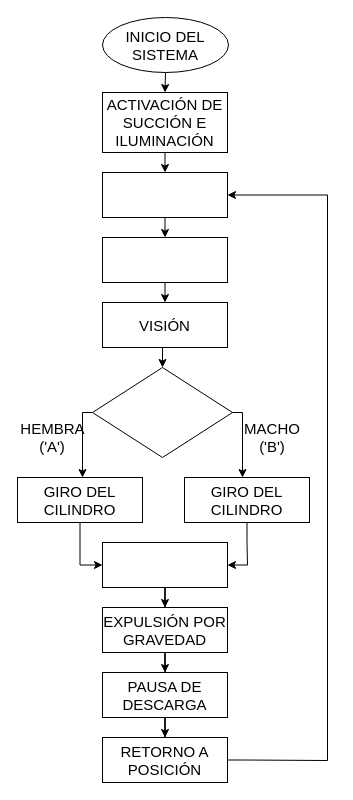
This 353x800 diagram has some shape labels left out. Here are the shapes that lost their labels. From the top down, the centre of each, then its label:
(165,195): ESPERA DEL MOSQUITO
(165,259): CAPTURA DEL MOSQUITO
(162,412): CLASIFICACIÓN (IA)
(165,565): PARADA DE PRECISIÓN
